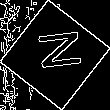N_W: (28, 32, 82, 78)
